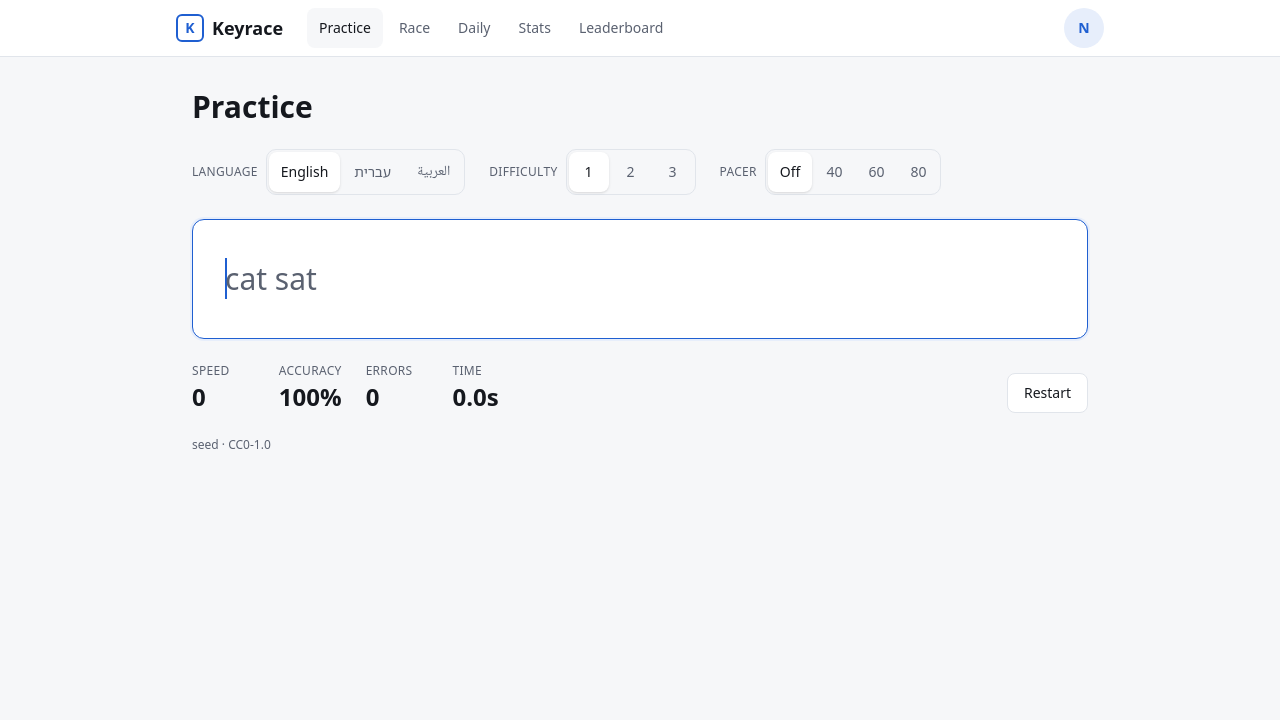
Test case: pacer and ghost on the practice page › free practice offers a pacer at 40, 60 or 80 WPM, drawn as a second race row
Check: the element named "Type the text above" is shown, box [192,219,1088,339]
Step 1. Click the button "60" → (876,172), box [856,152,896,192]
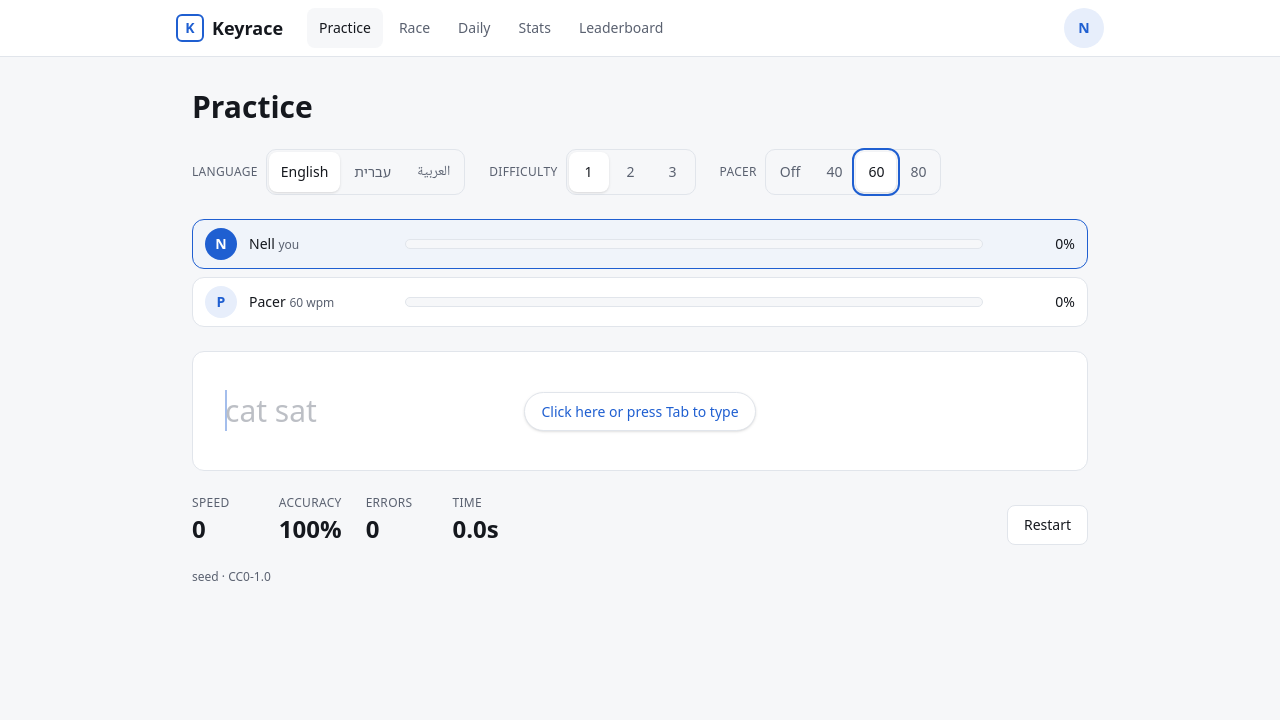
Check: the list item with test id "pace-pacer" shows "Pacer 60 wpm", box [192,277,1088,327]
Check: the list item with test id "pace-you" shows "Nell you", box [192,219,1088,269]
